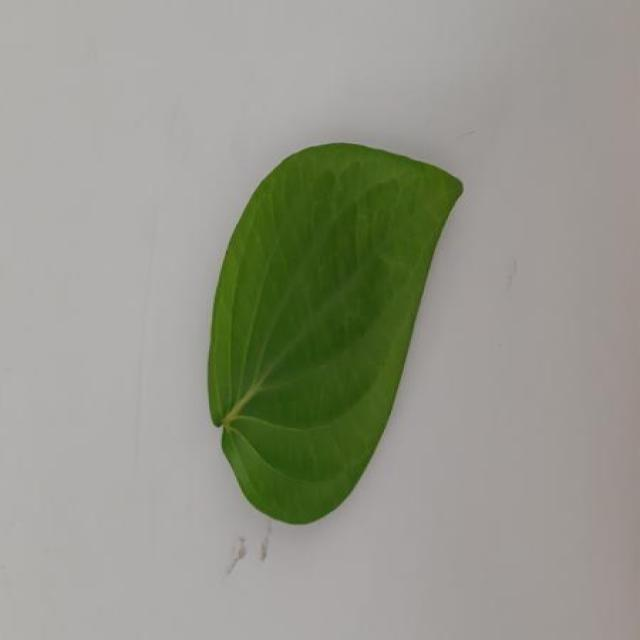betel: (210, 144, 462, 524)
